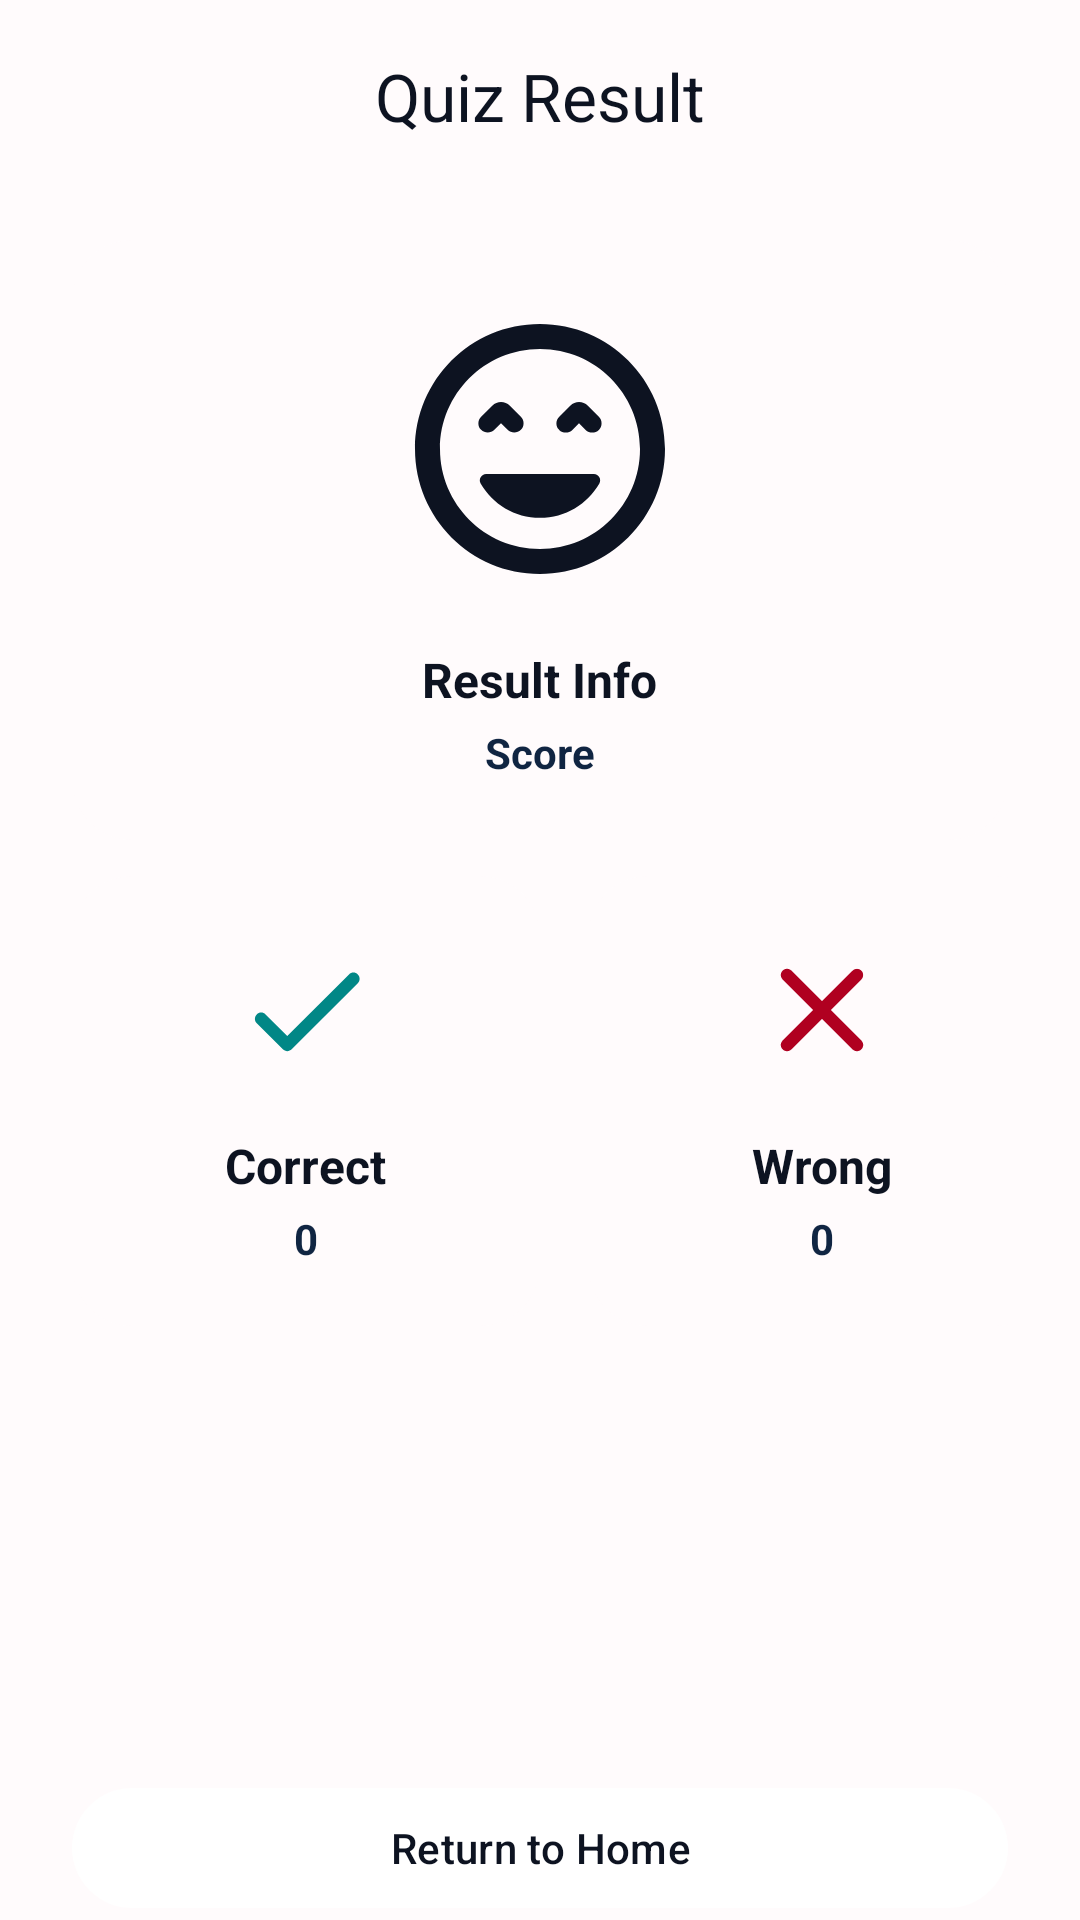

Icons on this 1080*1920 Android screen, each with its box as [left=x1, top=y1, right=x2, bottom=y2]:
happy: [left=415, top=324, right=665, bottom=574]
